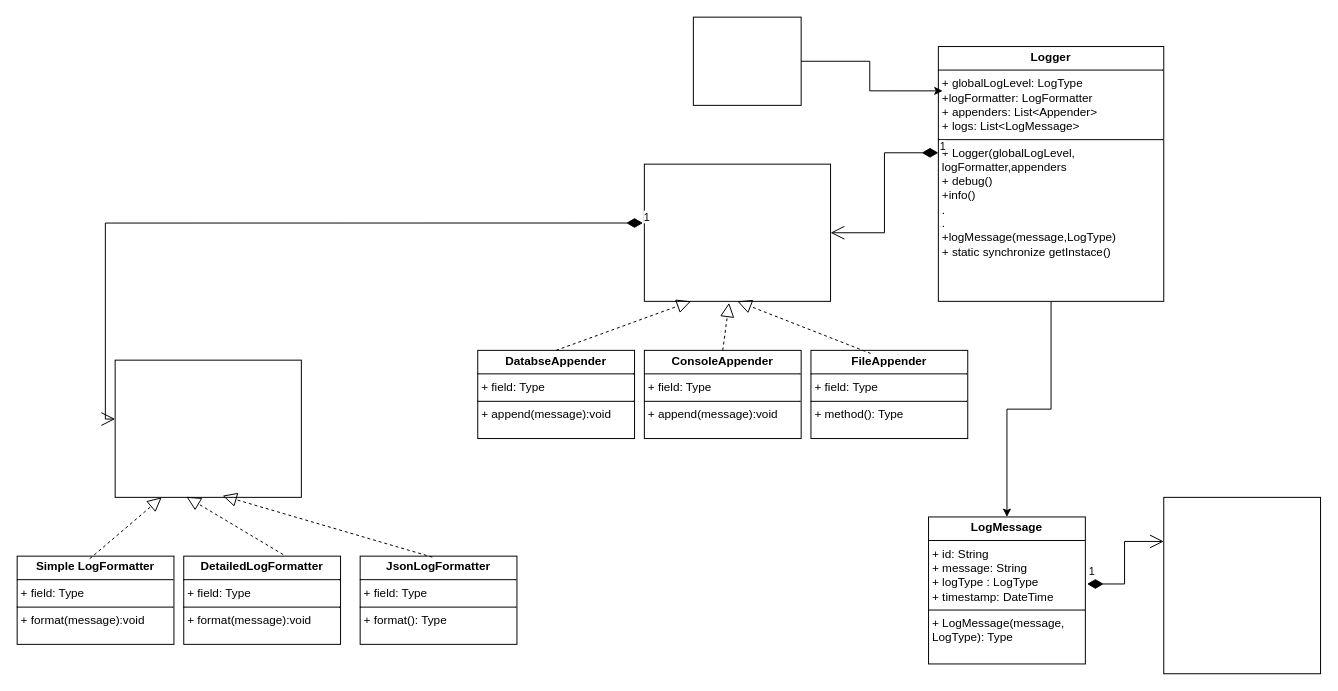
This 1338x691 diagram has some shape labels left out. Here are the shapes that lost their labels. From the top down, the box of each, then its label:
(692, 16, 801, 105): LoggerDemo + field: Type + method(): Type
(643, 163, 831, 301): <<Interface>> Appenders + logFormatter: logFormatter + append(message):void
(114, 359, 301, 497): <<Interface>> LogFormatter + format(message):void
(1163, 496, 1321, 674): <<ENUM>> LogType INFO, DEBUG, WARNING, ERROR, CRITICAL
